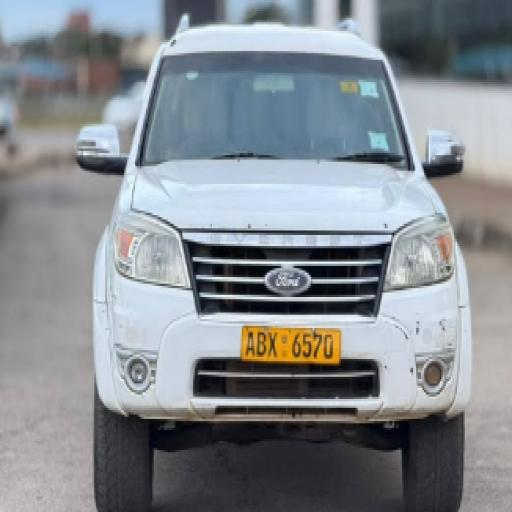number-plates: (240, 326, 338, 363)
